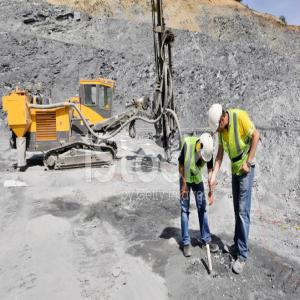white: (208, 104, 226, 136), (197, 134, 215, 166)
